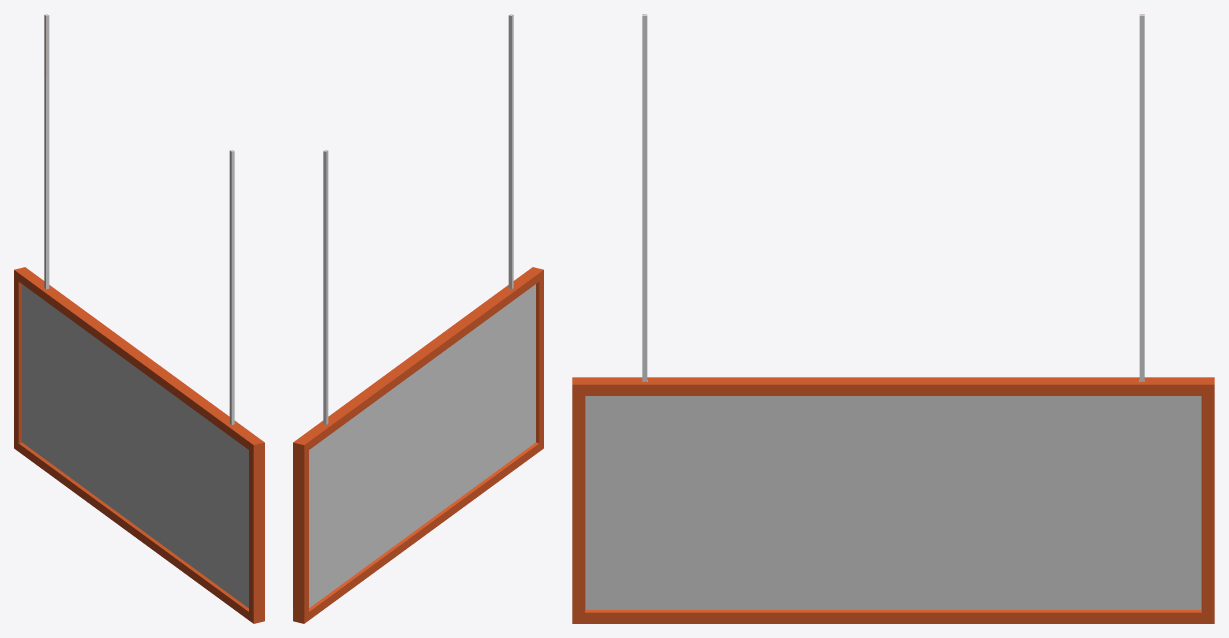
The model's file is sign.glb.
3 views of the same model, side by side, from view 1: azimuth 30°, elevation 25°; view 2: azimuth 150°, elevation 25°; view 3: azimuth 270°, elevation 25° (orthographic). The views are drawn at different scales.
Parts seen in each view (by area): view 1: textable_area, Sign_bake; view 2: textable_area, Sign_bake; view 3: textable_area, Sign_bake.
Part boxes in pixels (bbox=[...]): textable_area: bbox=[22, 284, 248, 607]; Sign_bake: bbox=[14, 14, 264, 623]; textable_area: bbox=[309, 284, 535, 607]; Sign_bake: bbox=[293, 14, 543, 623]; textable_area: bbox=[585, 396, 1201, 609]; Sign_bake: bbox=[572, 14, 1214, 623].
Size of the model in its own units: 0.0538 by 2.08 by 2.
2 materials, 1 textured.
